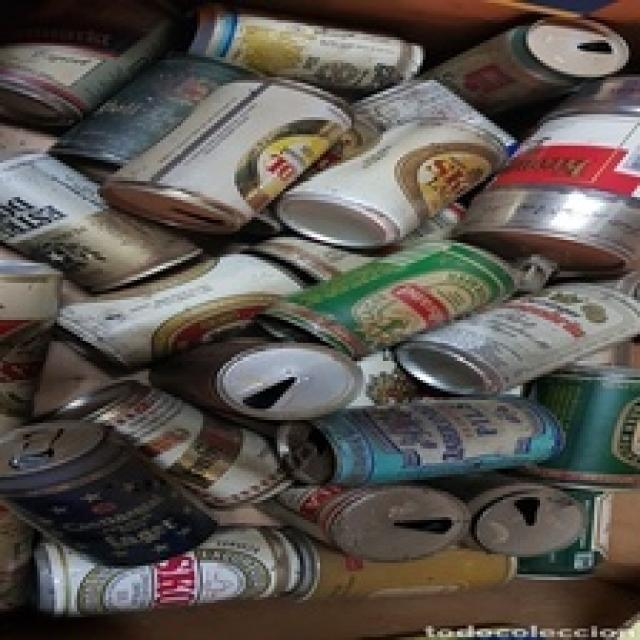recyclable: (99, 78, 357, 242), (50, 238, 344, 377), (453, 99, 640, 286), (0, 418, 220, 572), (45, 380, 294, 512), (261, 239, 524, 361), (0, 149, 209, 302), (273, 116, 507, 252), (392, 282, 640, 400), (26, 520, 323, 618), (276, 393, 570, 491), (183, 0, 423, 98), (0, 0, 177, 131), (430, 12, 632, 123), (161, 328, 365, 424), (282, 525, 520, 597), (272, 482, 472, 567), (434, 473, 592, 561), (0, 257, 66, 442)
